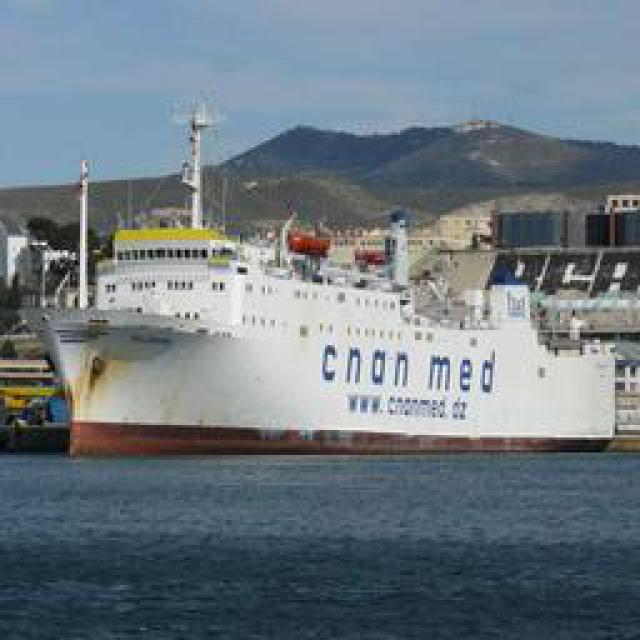Ship: (21, 175, 624, 455)
